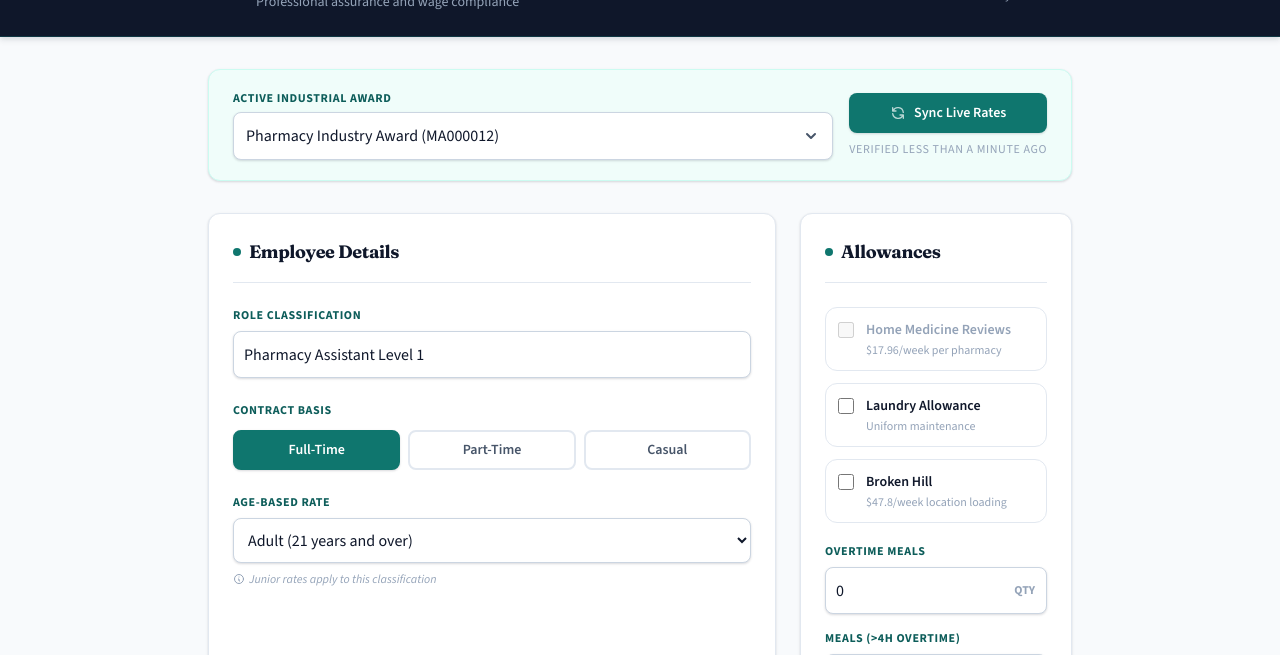
Test case: App integration tests › retail award end-to-end: retail classifications/allowances and GRIA penalty audit
Select the General Retail Industry Award (MA000004)
Select "General Retail Industry Award (MA000004)" in the dropdown with id "award-select": coordinates (533, 136) [233,112,833,160]
(page scrolled)
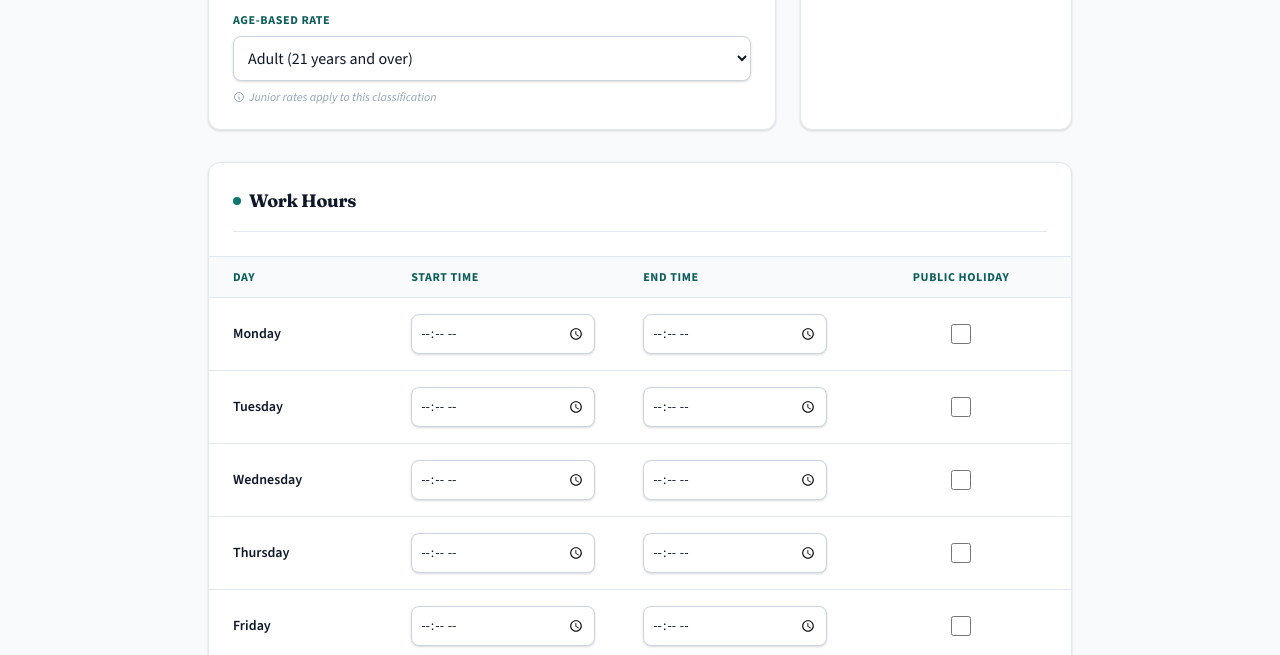
Now the label labelled "Home Medicine Reviews" is gone
Now the label labelled "Laundry" is gone
Now the label labelled "Broken Hill" is gone
Monday 17:00–21:00 — crosses the GRIA 6:00pm evening window
In the time field named "Monday start time": coordinates (503, 334) [411,314,595,354], type "17:00"
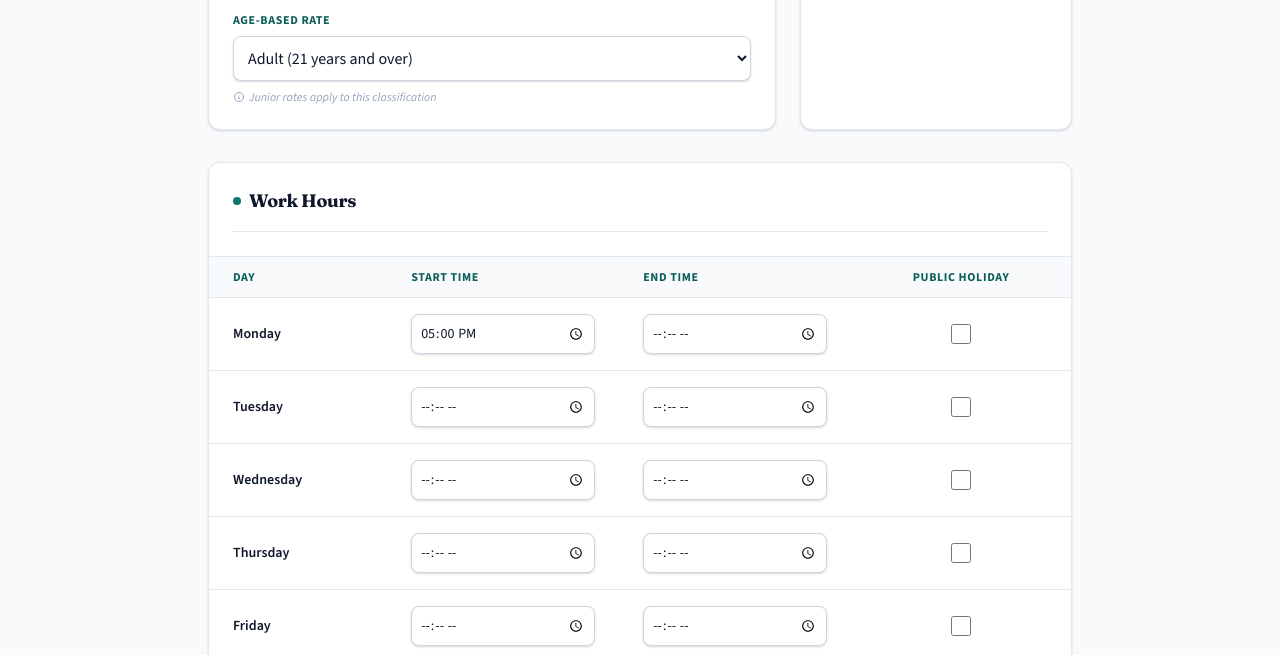
In the time field named "Monday end time": coordinates (735, 334) [643,314,827,354], type "21:00"
(page scrolled)
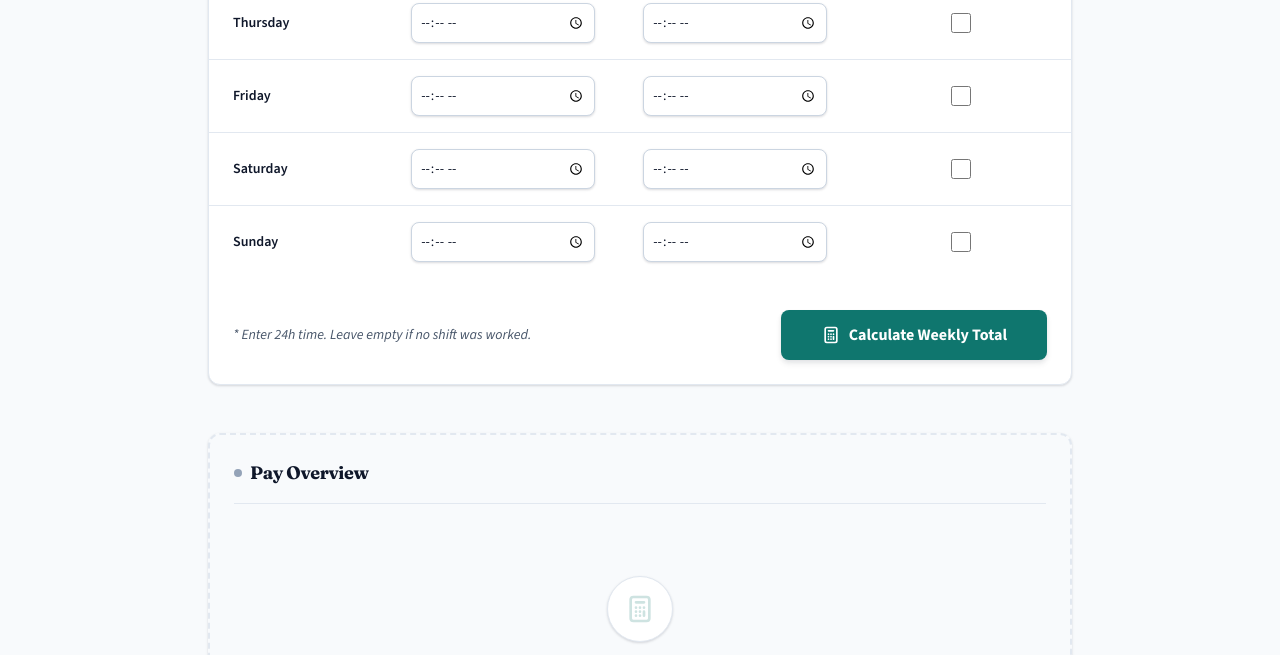
Click the button "Calculate Weekly Total": coordinates (914, 335) [781,310,1047,360]
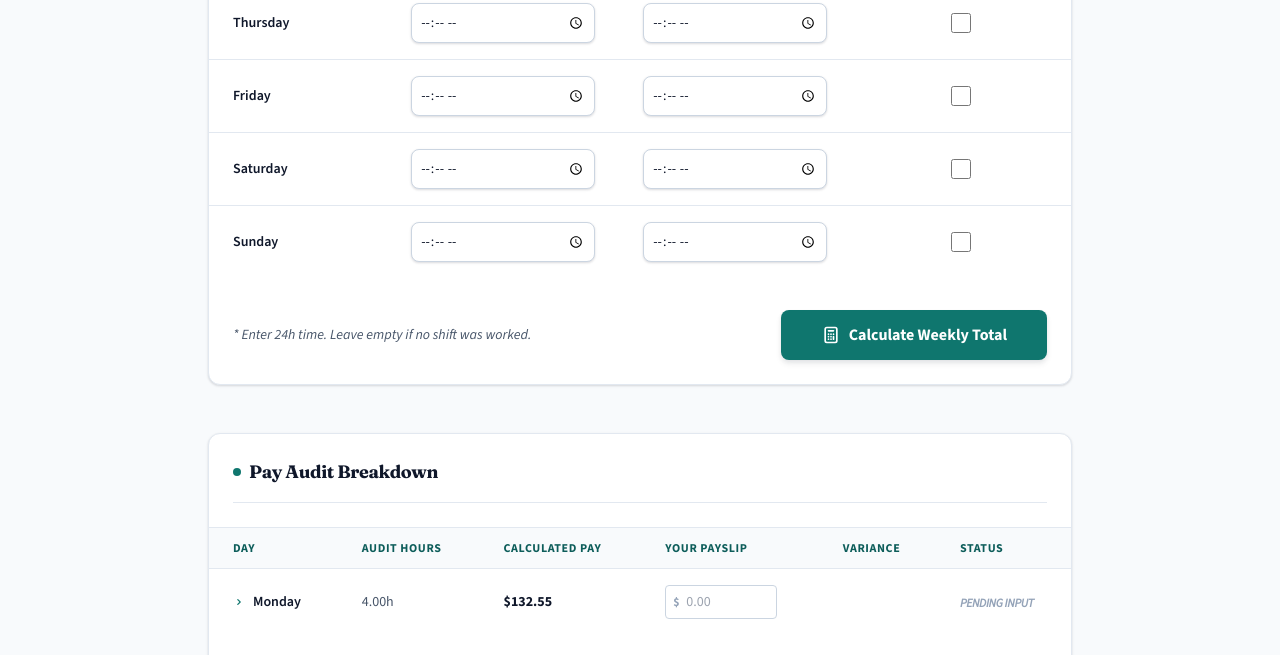
Now the text "$132.55" is shown, box [480,568,641,635]
Audit trace uses the GRIA penalty structure
Click the text "$132.55": coordinates (277, 601) [209,568,1071,635]
(page scrolled)
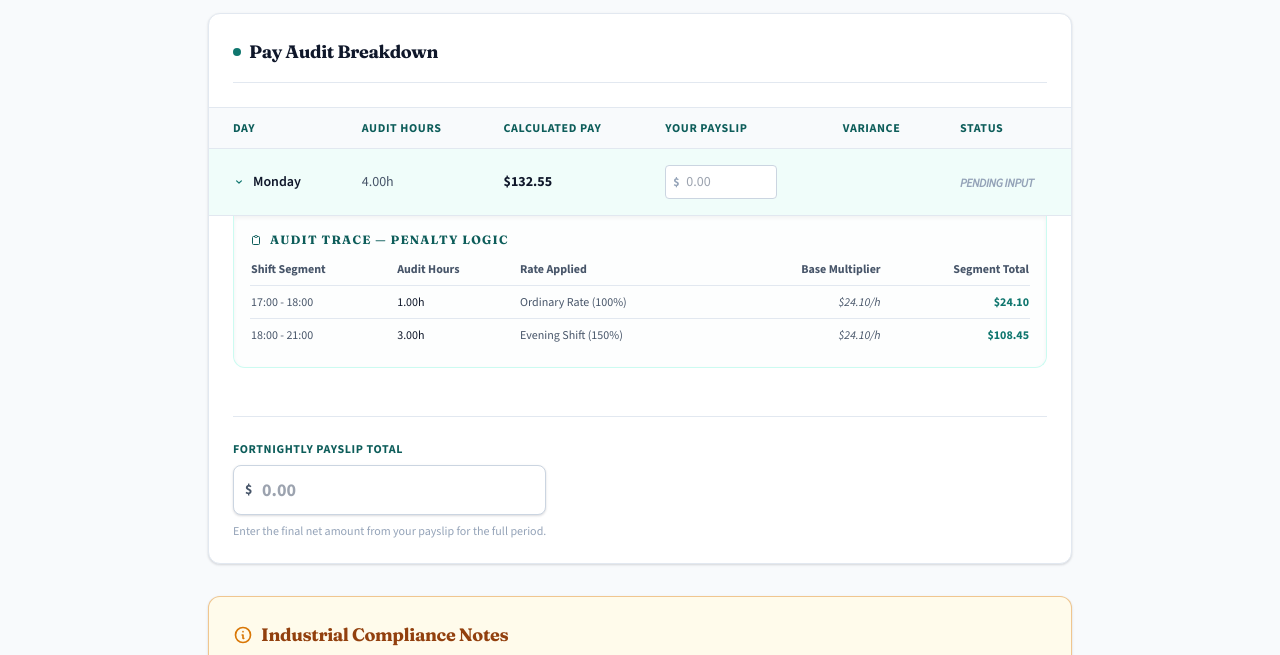
Now the text "Evening Shift (150%)" is shown, box [520,327,623,343]
